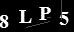5: (58, 11, 69, 26)
8: (1, 14, 9, 29)
L: (18, 9, 33, 24)
P: (38, 6, 52, 21)
